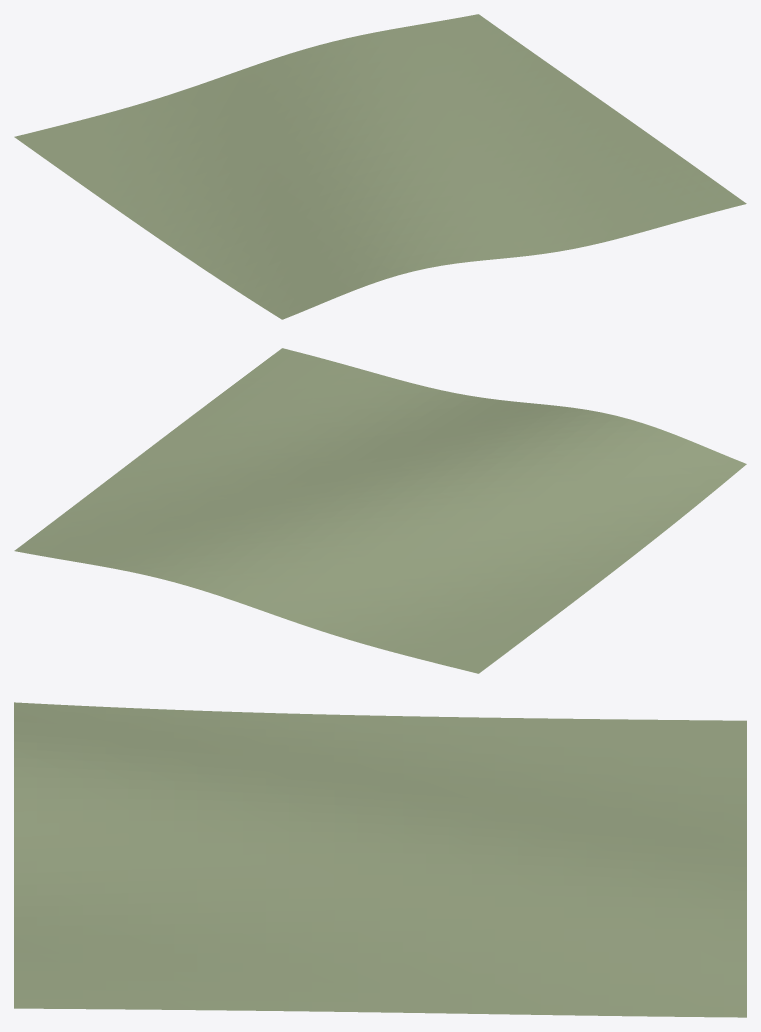
File: desert-4-2.glb
3 renders of one model, top to bottom at view 1: azimuth 30°, elevation 25°; view 2: azimuth 150°, elevation 25°; view 3: azimuth 270°, elevation 25°, orthographic. The views are drawn at different scales.
Parts seen in each view (by area): view 1: desert-4-2; view 2: desert-4-2; view 3: desert-4-2.
Part boxes in pixels (x1,y1,x2,y2): desert-4-2: [14, 14, 746, 319]; desert-4-2: [14, 348, 746, 673]; desert-4-2: [14, 702, 746, 1017].
Size of the model in its own units: 512 by 31.46 by 512.
